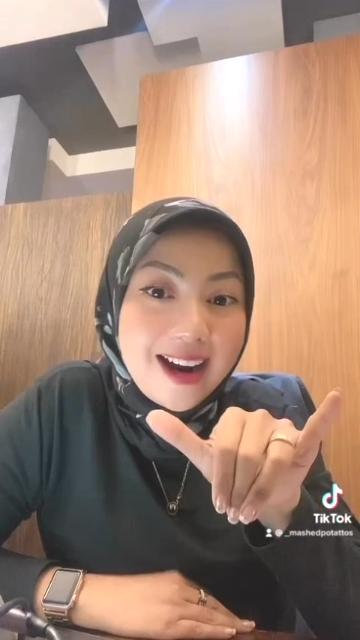Y: (146, 384, 350, 528)
